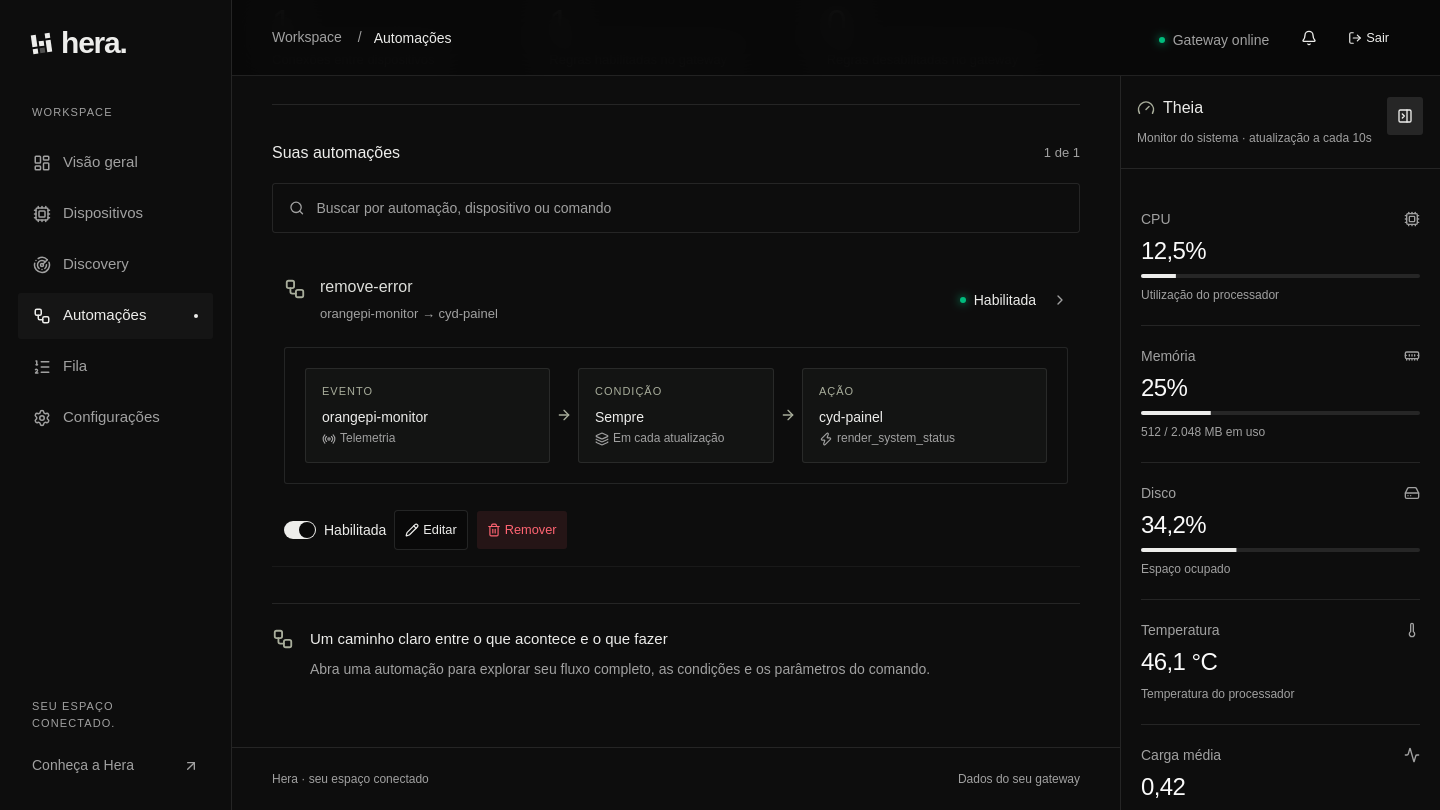
Test: shows a remove failure inside the open confirmation dialog
(page scrolled)
What coordinates should you click on to do the following:
click the button with aria-label "Remover remove-error"
I would click on:
 (522, 530)
Its box is [476,510,568,550].
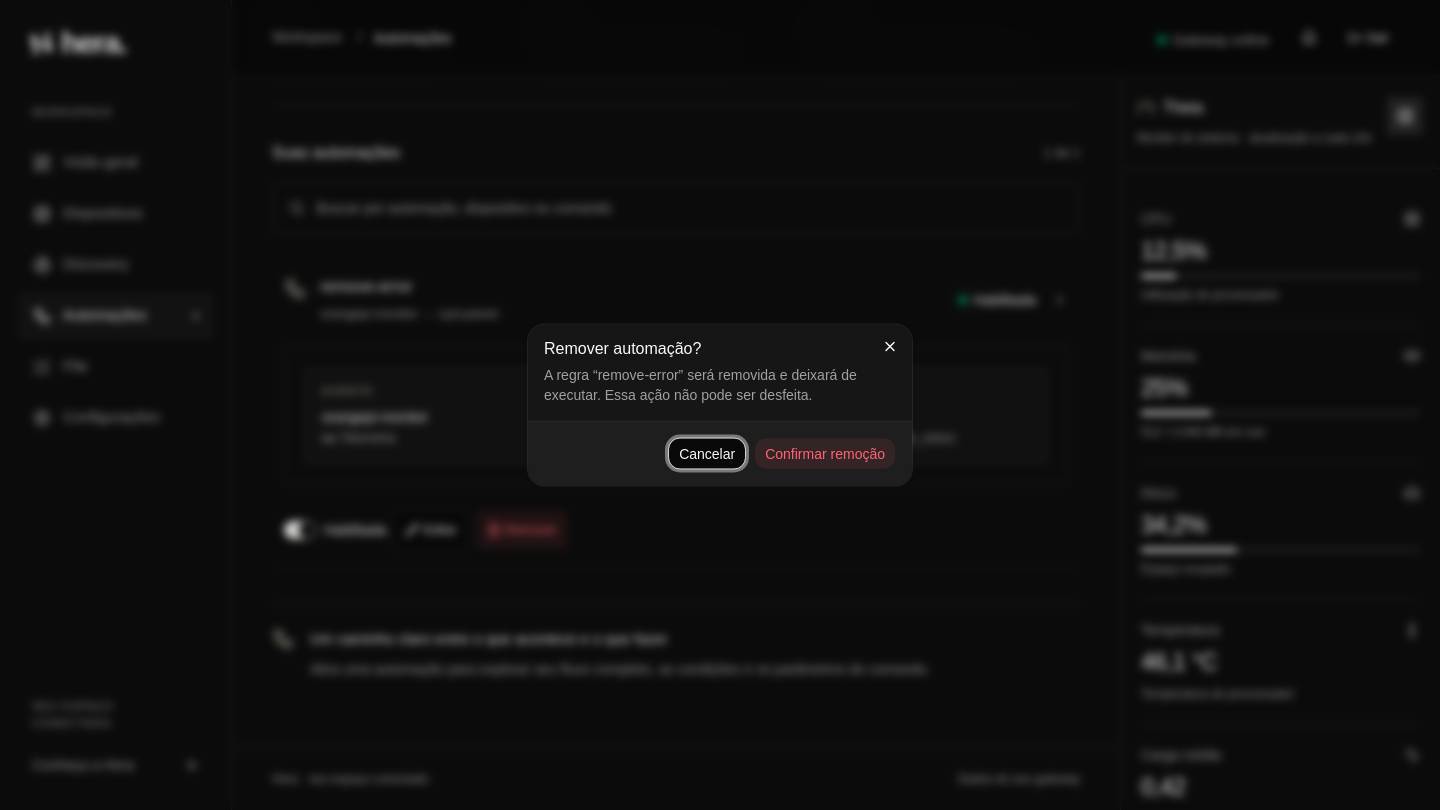
What coordinates should you click on to do the following:
click the button "Confirmar remoção"
I would click on:
 (825, 454)
Its box is [754,438,896,470].
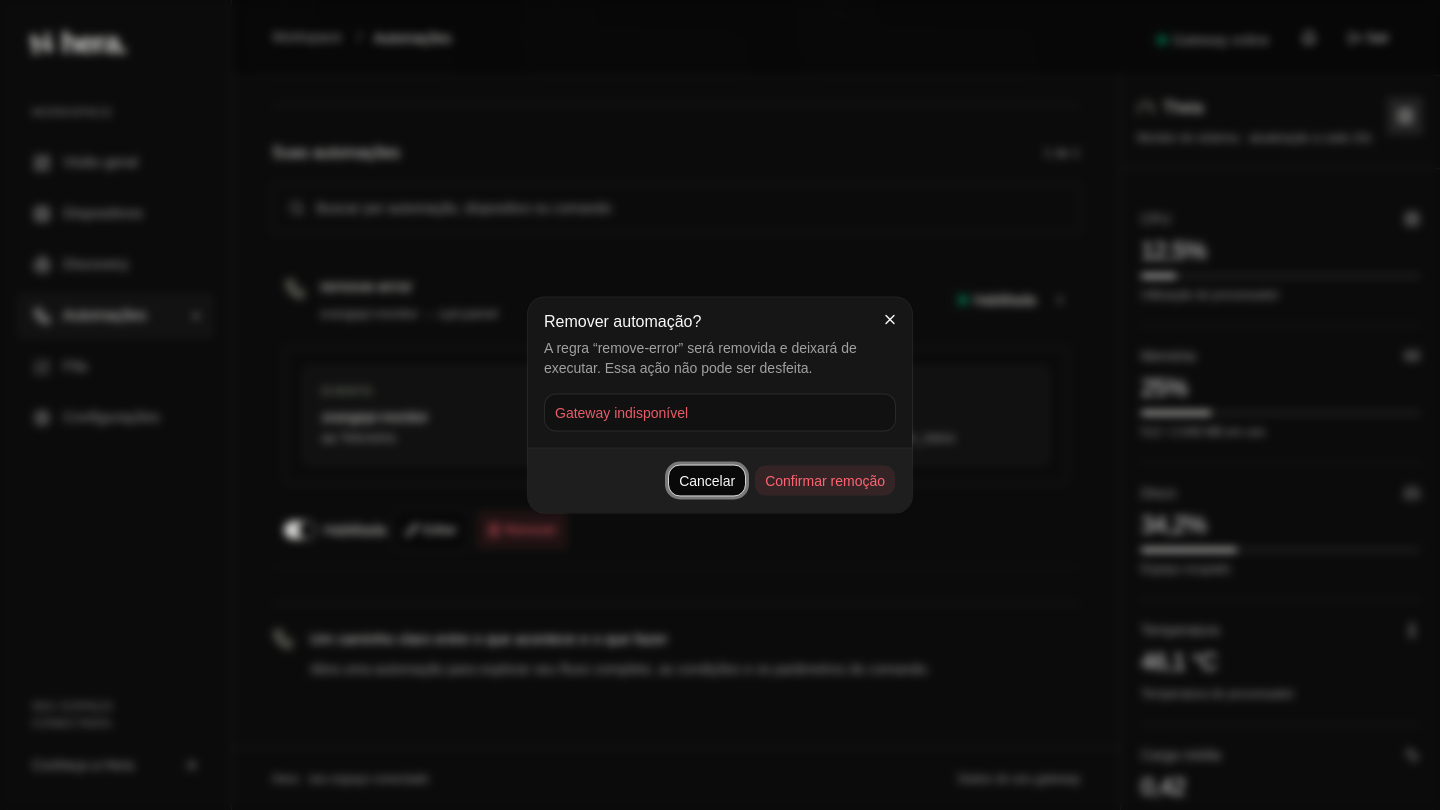
Expected: the dialog is shown, [528,298,912,512]
Expected: the message reads "Gateway indisponível", [555,404,688,420]
